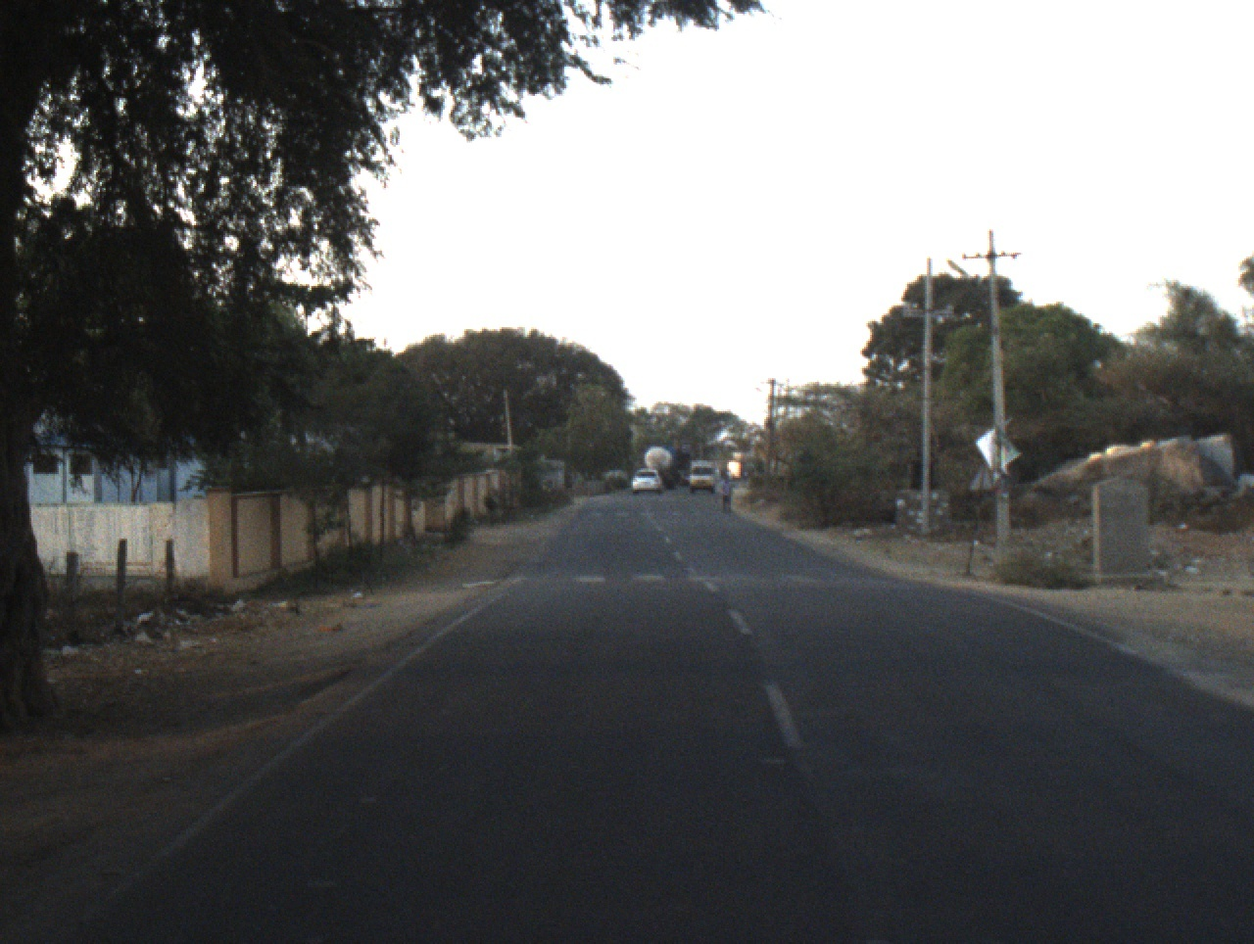car: (633, 467, 663, 497)
person: (717, 474, 735, 509)
truck: (644, 446, 685, 494), (685, 461, 719, 496)
